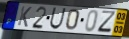0: (64, 9, 81, 32), (84, 9, 99, 33)
2: (31, 6, 47, 30)
K: (17, 5, 33, 28)
U: (49, 7, 67, 30)
Z: (96, 10, 117, 35)
